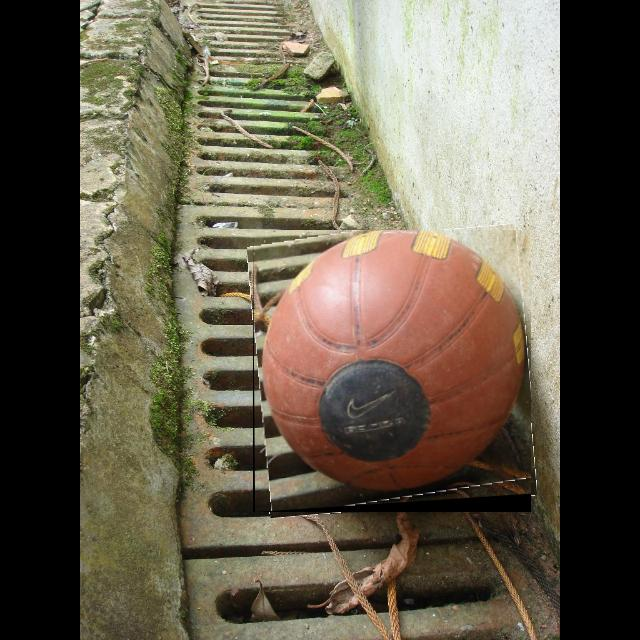Football: (253, 230, 531, 512)
